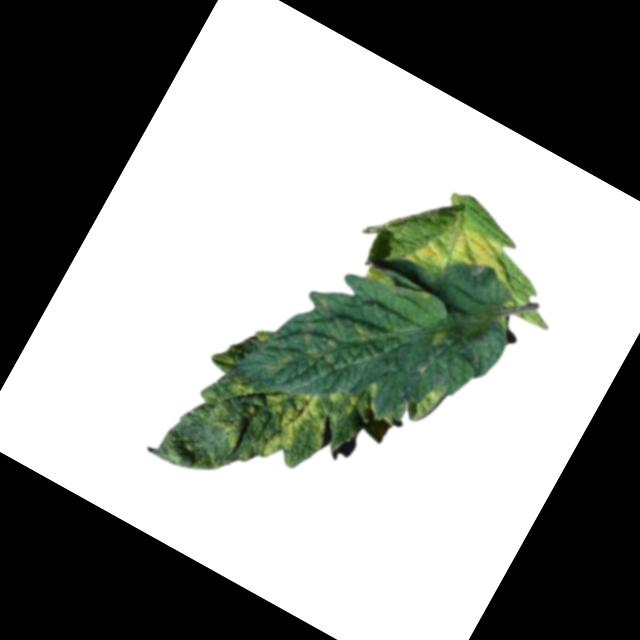Leaf_Mold: (261, 279, 409, 422), (402, 203, 526, 311), (255, 381, 343, 479)
